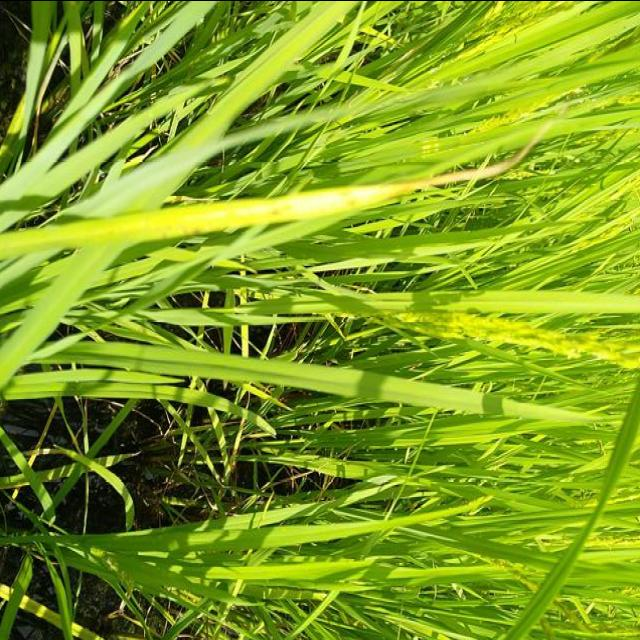Leaf Streak: (0, 133, 538, 258)
